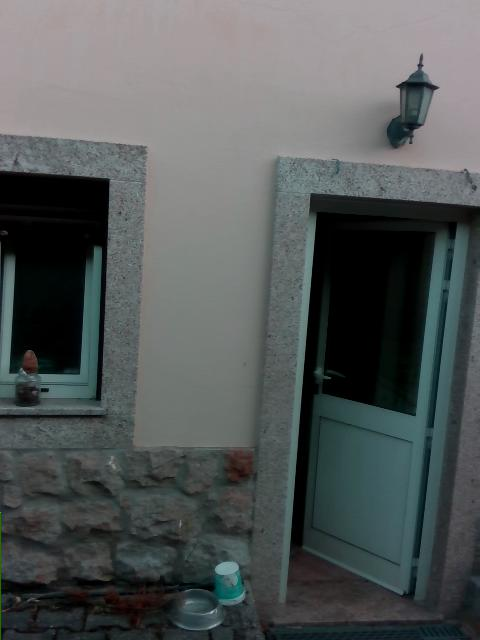semi_door: (278, 189, 478, 605)
